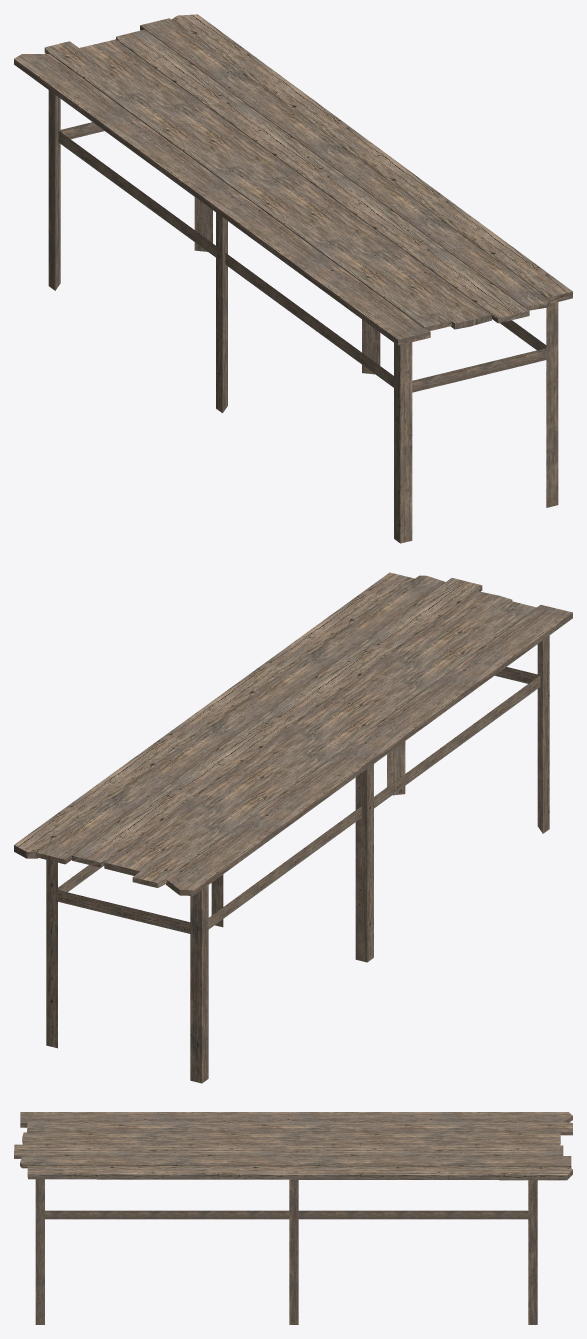
The model's file is Prop_Mq04_lod2.glb.
The picture shows the model from 3 angles, top to bottom: view 1: azimuth 30°, elevation 25°; view 2: azimuth 150°, elevation 25°; view 3: azimuth 270°, elevation 25°; orthographic projection. The views are drawn at different scales.
Parts seen in each view (by area): view 1: xiutz_mq_04_lod2; view 2: xiutz_mq_04_lod2; view 3: xiutz_mq_04_lod2.
Boxes of the visible parts, box(x1,y1,x2,y2) form: xiutz_mq_04_lod2: box(14, 14, 572, 543); xiutz_mq_04_lod2: box(14, 572, 572, 1083); xiutz_mq_04_lod2: box(14, 1112, 572, 1324).
Size of the model in its own units: 3.85 by 4.34 by 14.28.
Materials: 1 (1 with a texture image).
